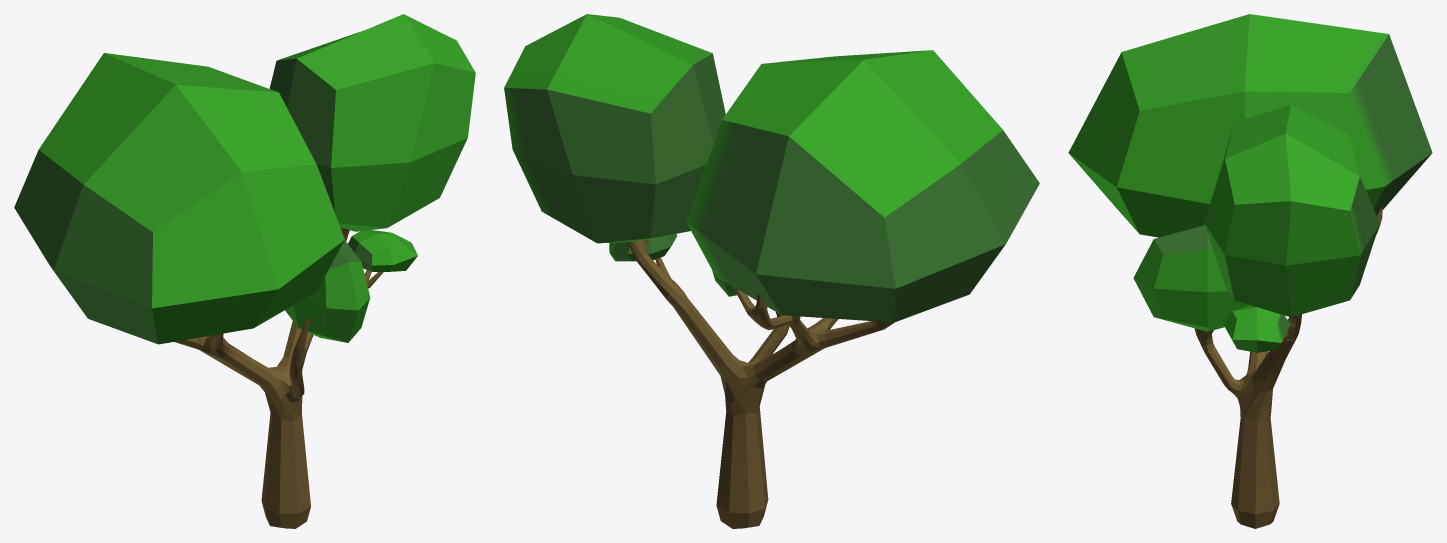
The model's file is Arbol (modelo 1).fbx.
3 renders of one model, left to right at view 1: azimuth 30°, elevation 25°; view 2: azimuth 150°, elevation 25°; view 3: azimuth 270°, elevation 25°, orthographic. The views are drawn at different scales.
Parts seen in each view (by area): view 1: tronco; view 2: tronco; view 3: tronco.
Boxes of the visible parts, x1=… form: tronco: x1=14, y1=14, x2=475, y2=528; tronco: x1=504, y1=14, x2=1039, y2=528; tronco: x1=1068, y1=14, x2=1432, y2=528.
Bounding box in the file's own units: 850 × 892 × 640.
